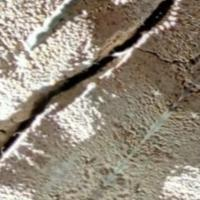crack: (2, 0, 180, 169)
